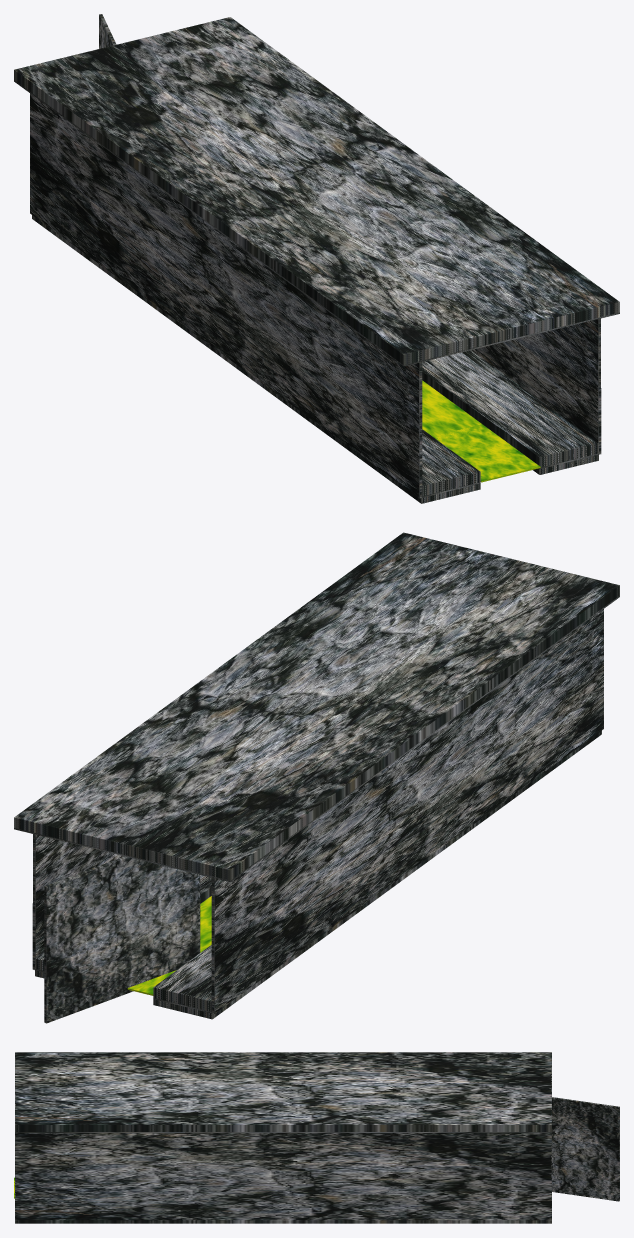
Rendered from level start and end.fbx.
The picture shows the model from 3 angles, top to bottom: view 1: azimuth 30°, elevation 25°; view 2: azimuth 150°, elevation 25°; view 3: azimuth 270°, elevation 25°; orthographic projection. The views are drawn at different scales.
Visible parts, largest first — view 1: ceiling, wall 1, floor 2, wall 2, acid004, floor 1; view 2: ceiling, wall 1, wall 003, floor 1, wall 2, acid004; view 3: wall 2, ceiling, wall 003, floor 2.
Boxes of the visible parts, box(x1,y1,x2,y2) form: ceiling: box(14, 17, 619, 366); wall 1: box(30, 93, 422, 498); floor 2: box(422, 350, 598, 474); wall 2: box(471, 318, 601, 454); acid004: box(422, 380, 540, 482); floor 1: box(32, 215, 480, 503); ceiling: box(14, 532, 619, 881); wall 1: box(211, 609, 603, 1013); wall 003: box(44, 856, 200, 1023); floor 1: box(153, 730, 601, 1019); wall 2: box(32, 834, 124, 969); acid004: box(127, 896, 211, 995); wall 2: box(15, 1133, 551, 1220); ceiling: box(15, 1052, 551, 1132); wall 003: box(552, 1097, 619, 1201); floor 2: box(15, 1220, 551, 1223).
Size of the model in its own units: 4555 by 3087 by 16022.
2 materials, 2 textured.
